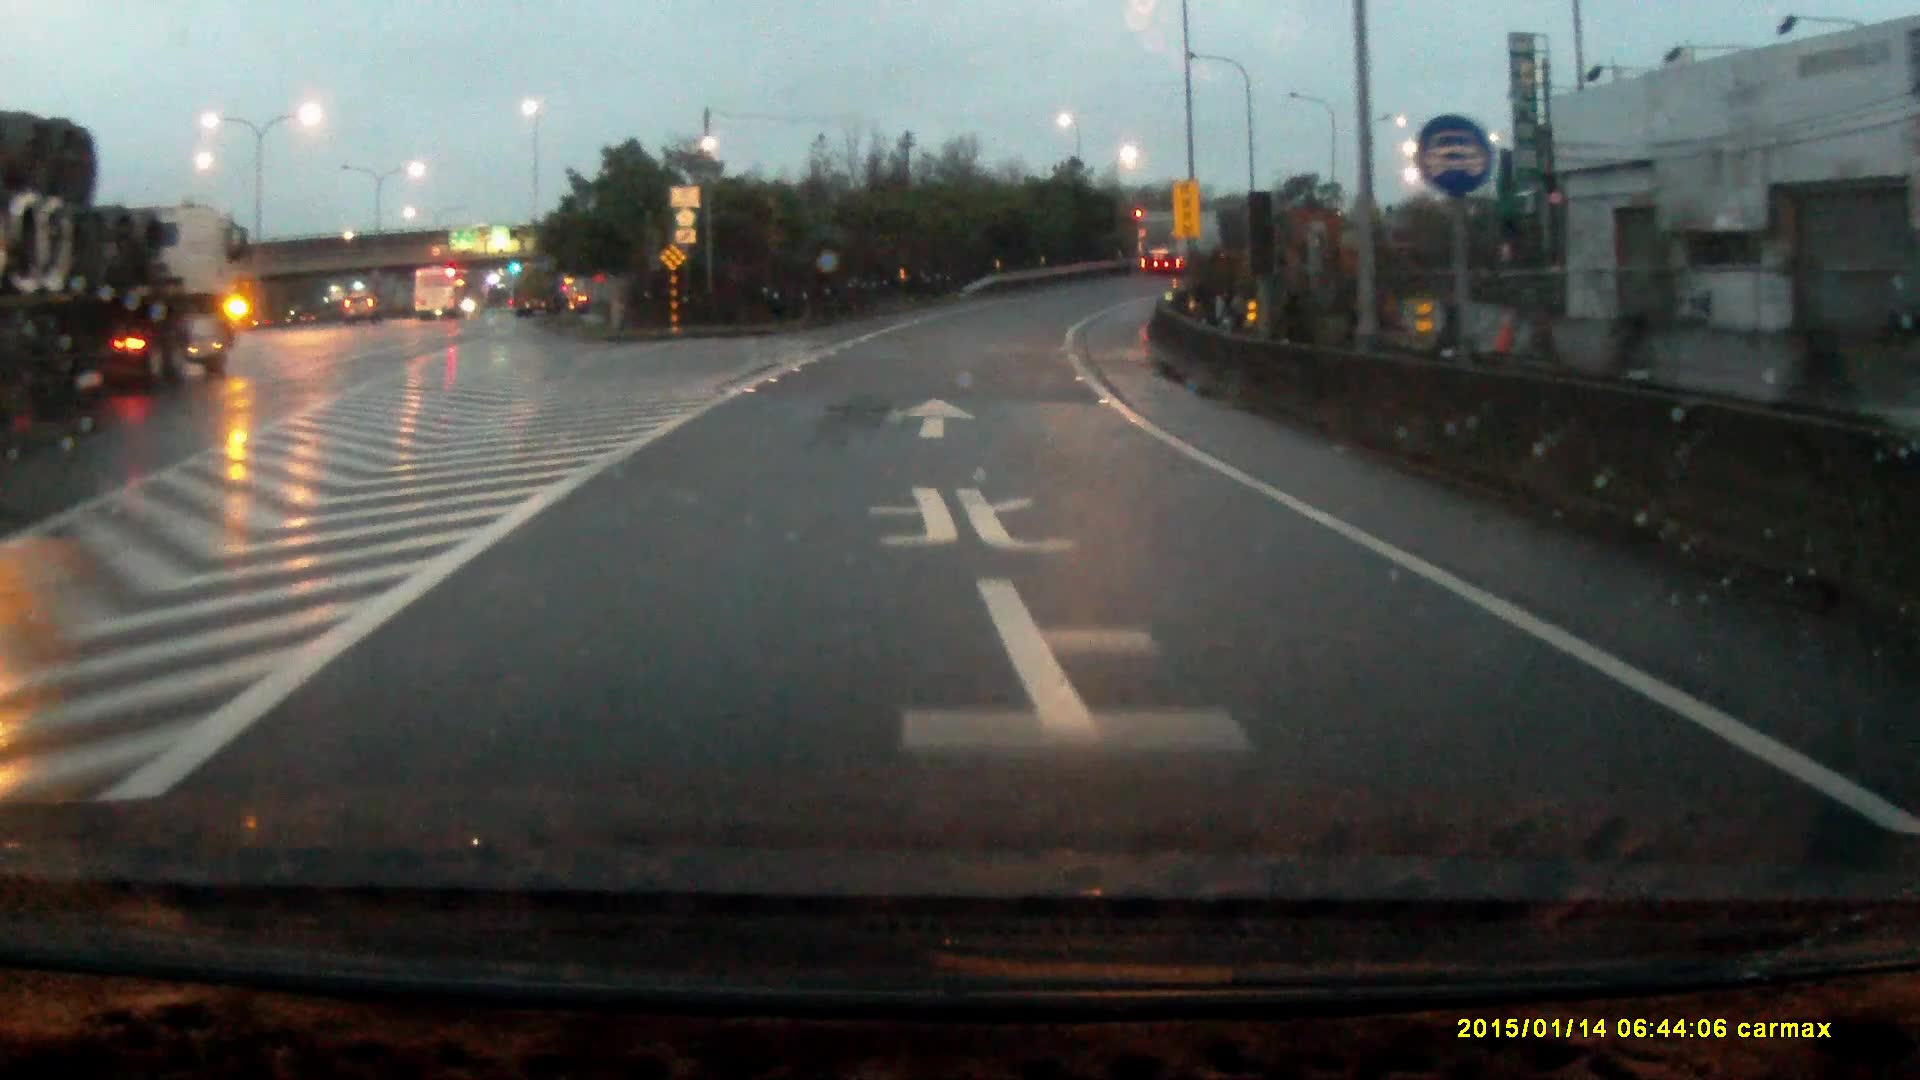vehicle: (1, 109, 247, 404), (1135, 211, 1229, 278), (414, 266, 473, 320), (343, 291, 378, 324)
